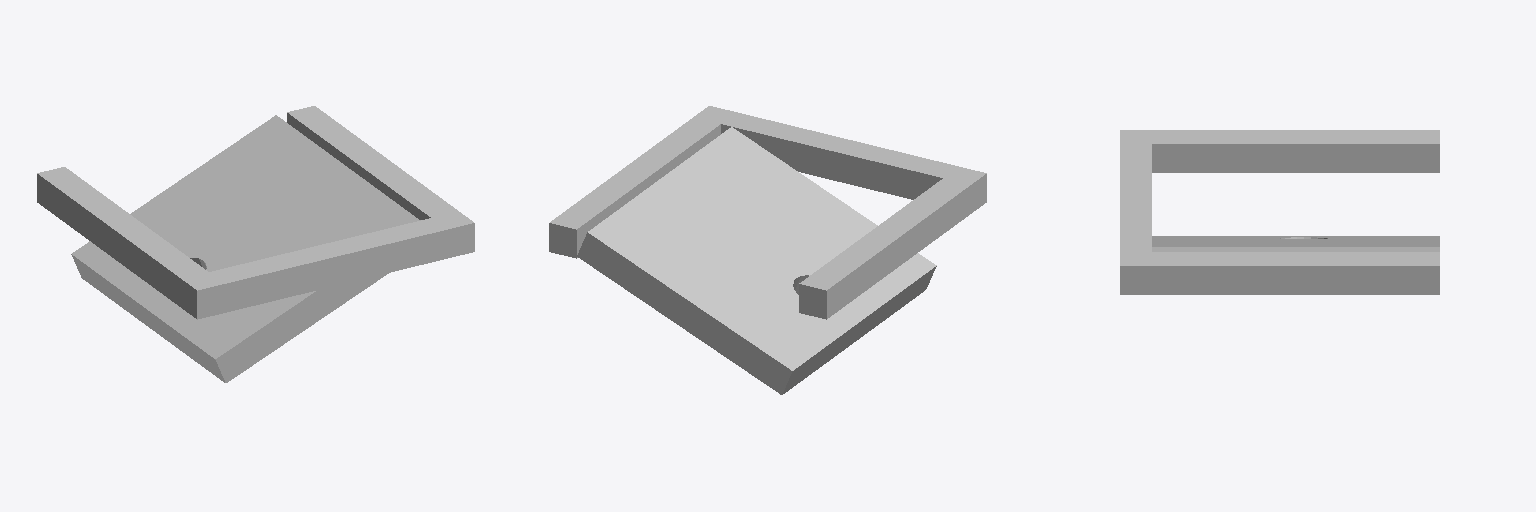
The model's file is rooms.obj.
3 views of the same model, side by side, from view 1: azimuth 30°, elevation 25°; view 2: azimuth 150°, elevation 25°; view 3: azimuth 270°, elevation 25° (orthographic).
Parts seen in each view (by area): view 1: obj_0; view 2: obj_0; view 3: obj_0.
Part boxes in pixels (x1,y1,x2,y2): obj_0: (37,106,474,382); obj_0: (549,106,986,394); obj_0: (1120,130,1439,294).
Size of the model in its own units: 20 by 7.97 by 20.